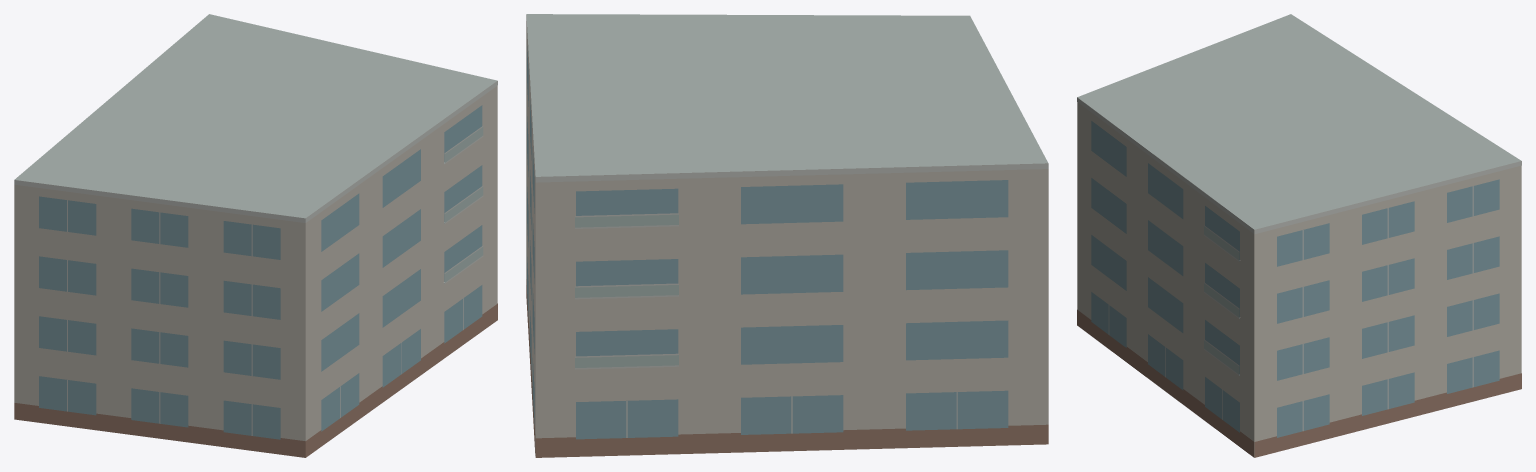
Rendered from residential-e431cc96-d6e2-4e46-93e1-2ed272c6fc95.glb.
3 views of the same model, side by side, from view 1: azimuth 30°, elevation 25°; view 2: azimuth 150°, elevation 25°; view 3: azimuth 270°, elevation 25° (orthographic). The views are drawn at different scales.
Parts seen in each view (by area): view 1: residential-e431cc96-d6e2-4e46-93e1-2ed272c6fc95.tmp; view 2: residential-e431cc96-d6e2-4e46-93e1-2ed272c6fc95.tmp; view 3: residential-e431cc96-d6e2-4e46-93e1-2ed272c6fc95.tmp.
Boxes of the visible parts, x1,y1,x2,y2 form: residential-e431cc96-d6e2-4e46-93e1-2ed272c6fc95.tmp: (14, 14, 497, 457); residential-e431cc96-d6e2-4e46-93e1-2ed272c6fc95.tmp: (526, 14, 1048, 457); residential-e431cc96-d6e2-4e46-93e1-2ed272c6fc95.tmp: (1077, 14, 1521, 457).
Bounding box in the file's own units: 24.76 × 12.2 × 21.56.
